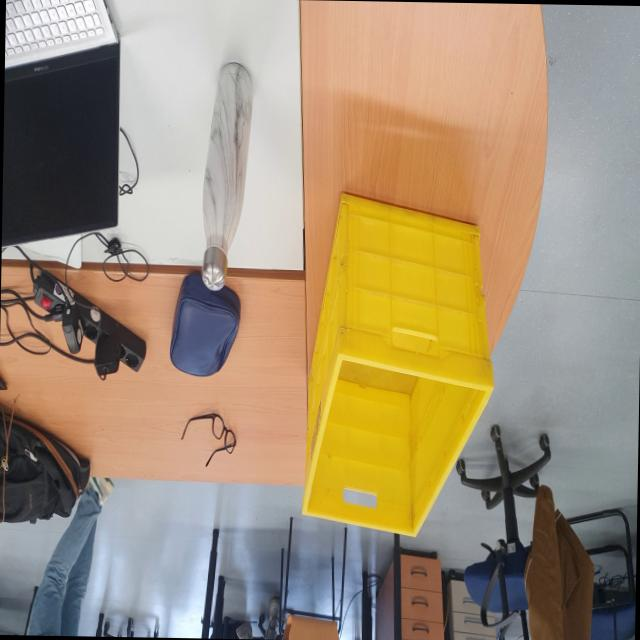box: (290, 170, 499, 542)
